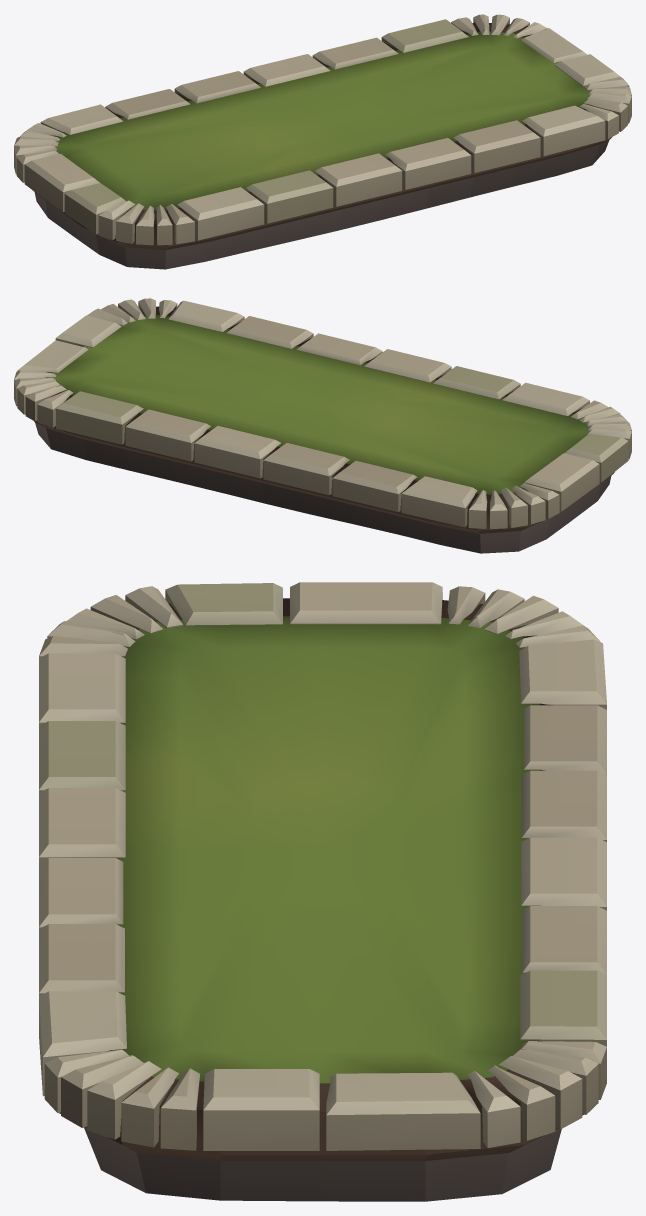
The model's file is plateforme_pierre_L.glb.
3 renders of one model, top to bottom at view 1: azimuth 30°, elevation 25°; view 2: azimuth 150°, elevation 25°; view 3: azimuth 270°, elevation 25°, orthographic. The views are drawn at different scales.
Visible parts, largest first — view 1: plateforme_pierre_L; view 2: plateforme_pierre_L; view 3: plateforme_pierre_L.
Boxes of the visible parts, x1,y1,x2,y2 form: plateforme_pierre_L: (14, 14, 631, 269); plateforme_pierre_L: (14, 298, 631, 553); plateforme_pierre_L: (39, 582, 606, 1201).
Bounding box in the file's own units: 6.28 × 1.21 × 2.88.
